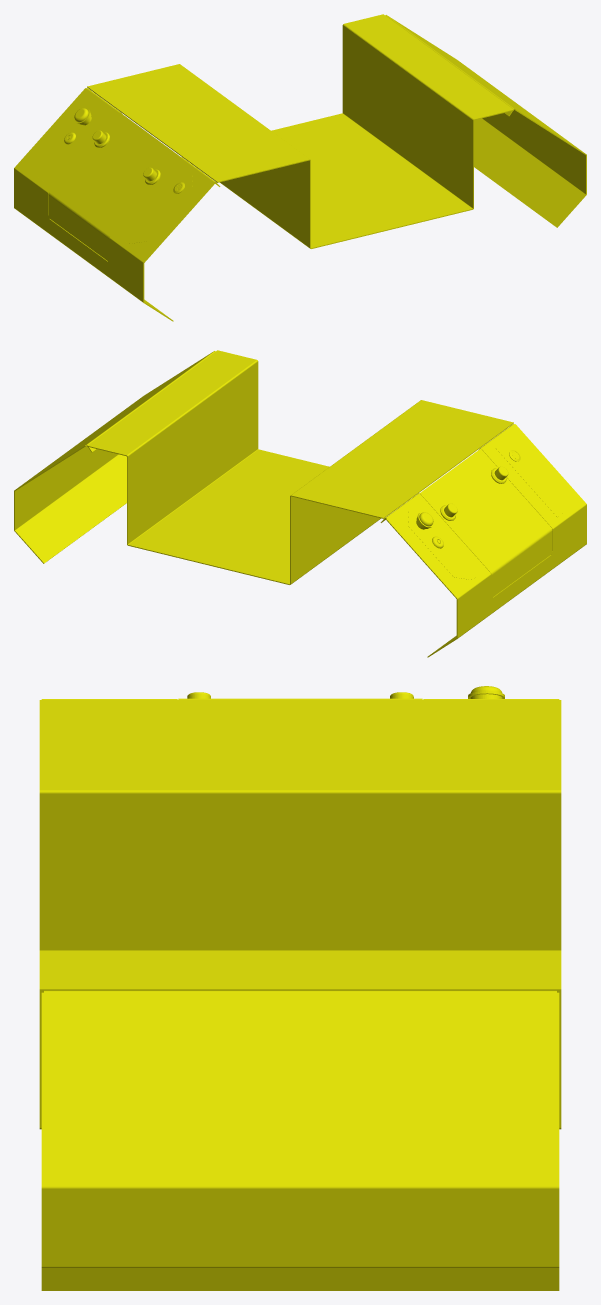
The model's file is top_chassis.glb.
The picture shows the model from 3 angles, top to bottom: view 1: azimuth 30°, elevation 25°; view 2: azimuth 150°, elevation 25°; view 3: azimuth 270°, elevation 25°; orthographic projection. The views are drawn at different scales.
Size of the model in its own units: 0.812 by 0.2264 by 0.4138.
